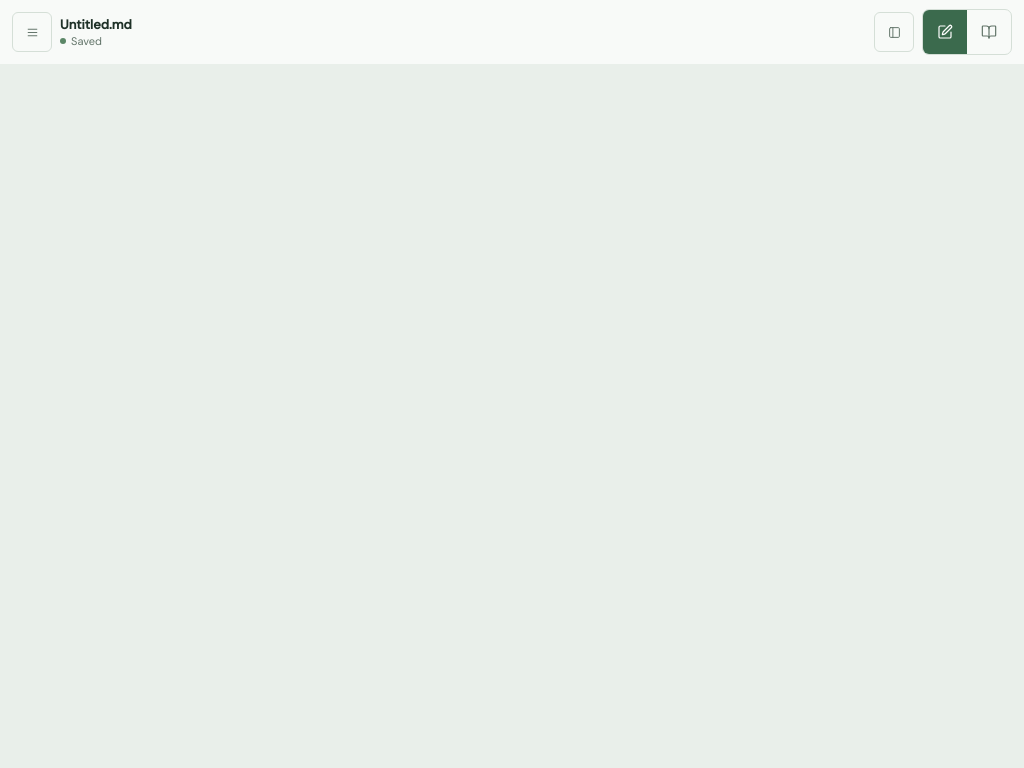
Test: MobileToolbarActions › labels the theme action with the next theme
Click the button named "Menu".
click(32, 32)  # box x1=12 y1=12 x2=52 y2=52
(page scrolled)
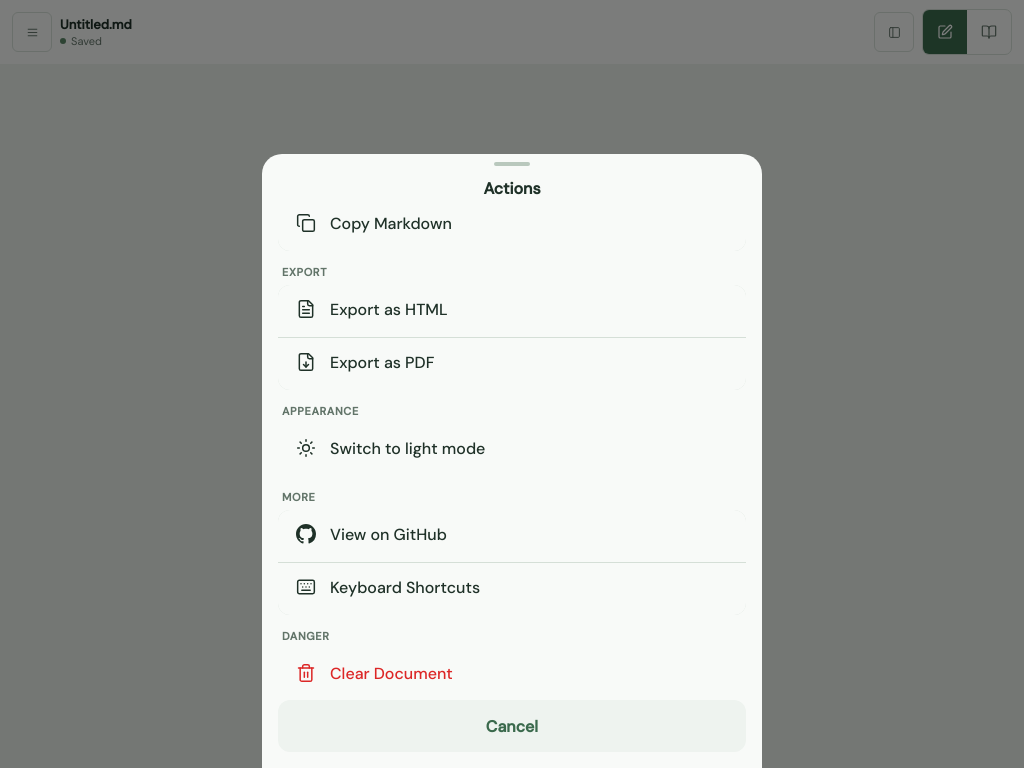
Check: the button with class "mobile-action-sheet__action" showing "Switch to light mode" is shown, box x1=278 y1=424 x2=746 y2=476
